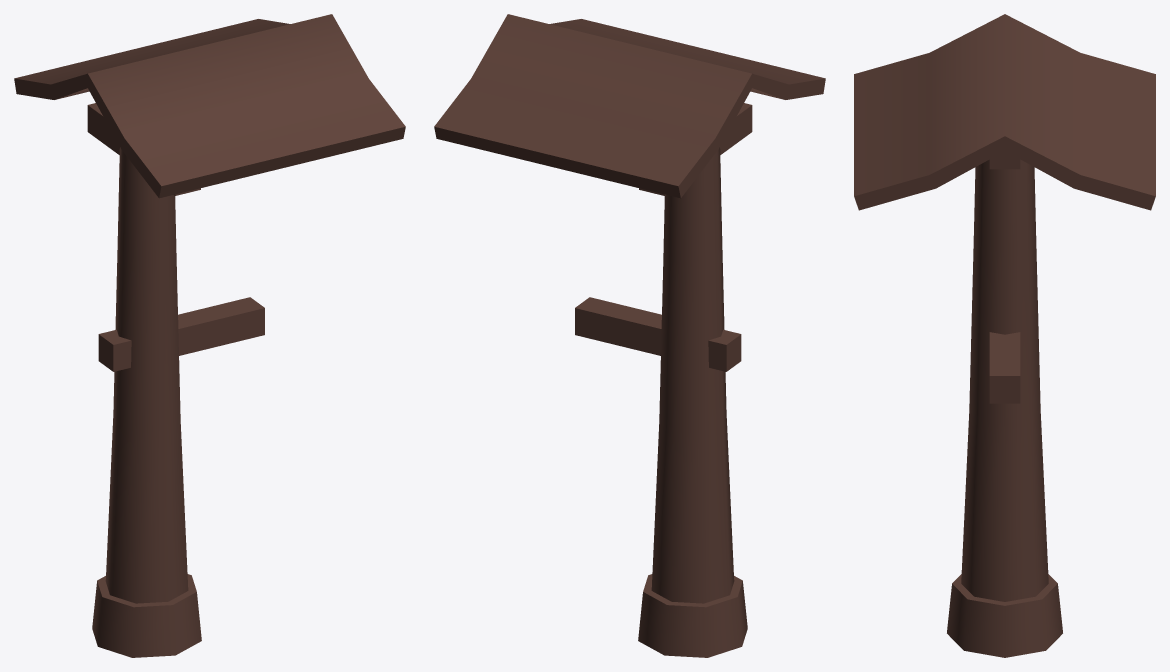
File: post.glb
The picture shows the model from 3 angles, left to right: view 1: azimuth 30°, elevation 25°; view 2: azimuth 150°, elevation 25°; view 3: azimuth 270°, elevation 25°; orthographic projection. The views are drawn at different scales.
Visible parts, largest first — view 1: stklib_asianWoodPost_a_main; view 2: stklib_asianWoodPost_a_main; view 3: stklib_asianWoodPost_a_main.
Boxes of the visible parts, x1,y1,x2,y2 form: stklib_asianWoodPost_a_main: [14, 14, 405, 657]; stklib_asianWoodPost_a_main: [434, 14, 825, 657]; stklib_asianWoodPost_a_main: [854, 14, 1155, 657].
Bounding box in the file's own units: 1.3 × 2.93 × 1.36.
